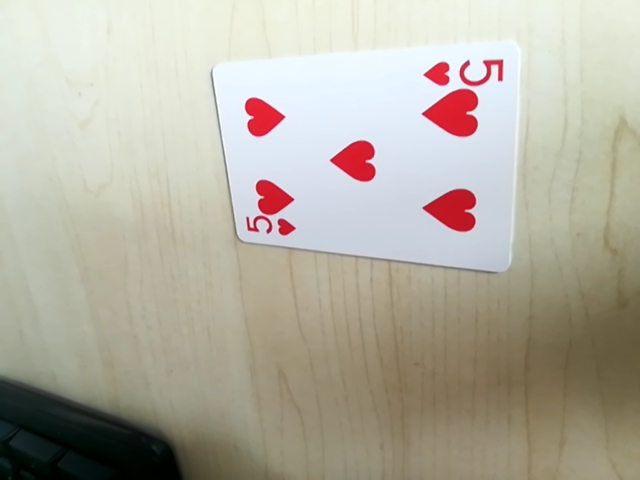hx 5: (419, 52, 506, 90), (240, 213, 300, 243)
